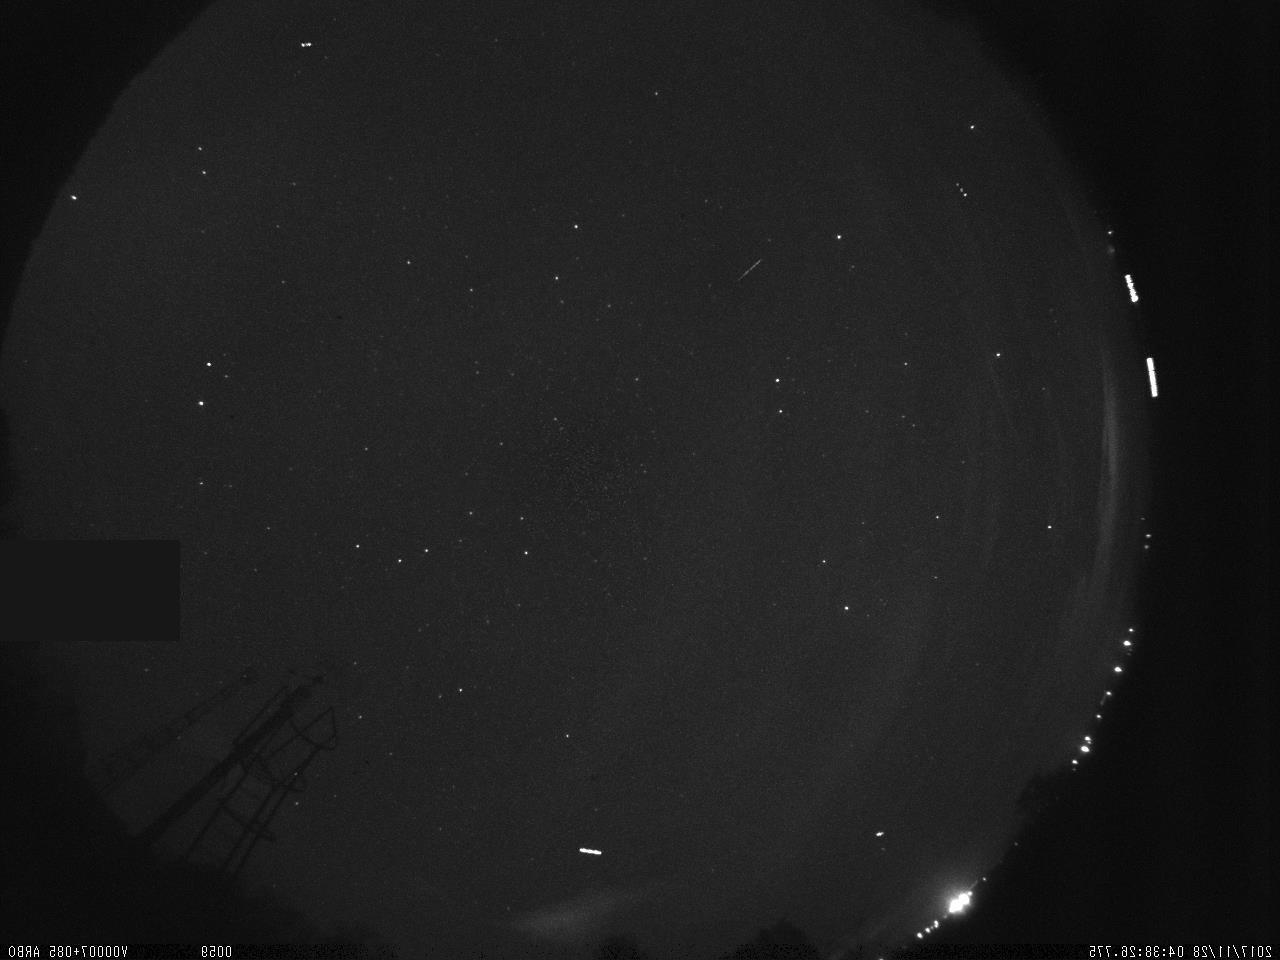meteor: (729, 252, 766, 288)
satelite: (573, 838, 607, 863), (949, 176, 971, 203)
